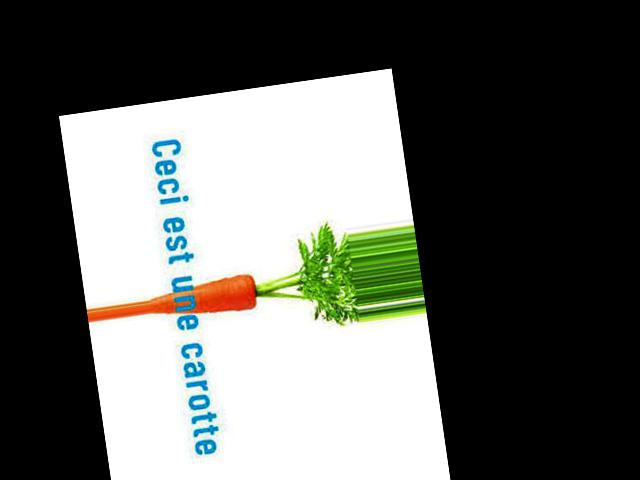carrot: (144, 263, 273, 339)
